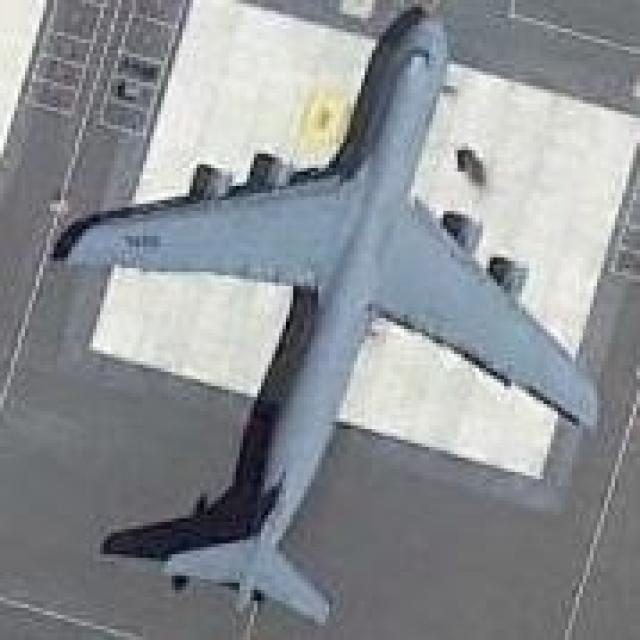C-5_TopDown: (58, 4, 603, 628)
